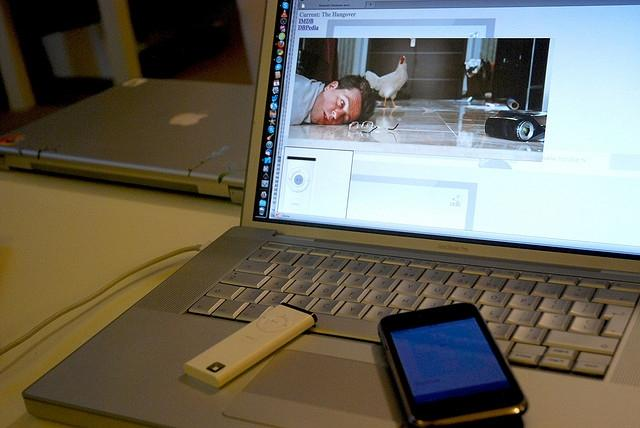apple: (170, 113, 207, 126)
